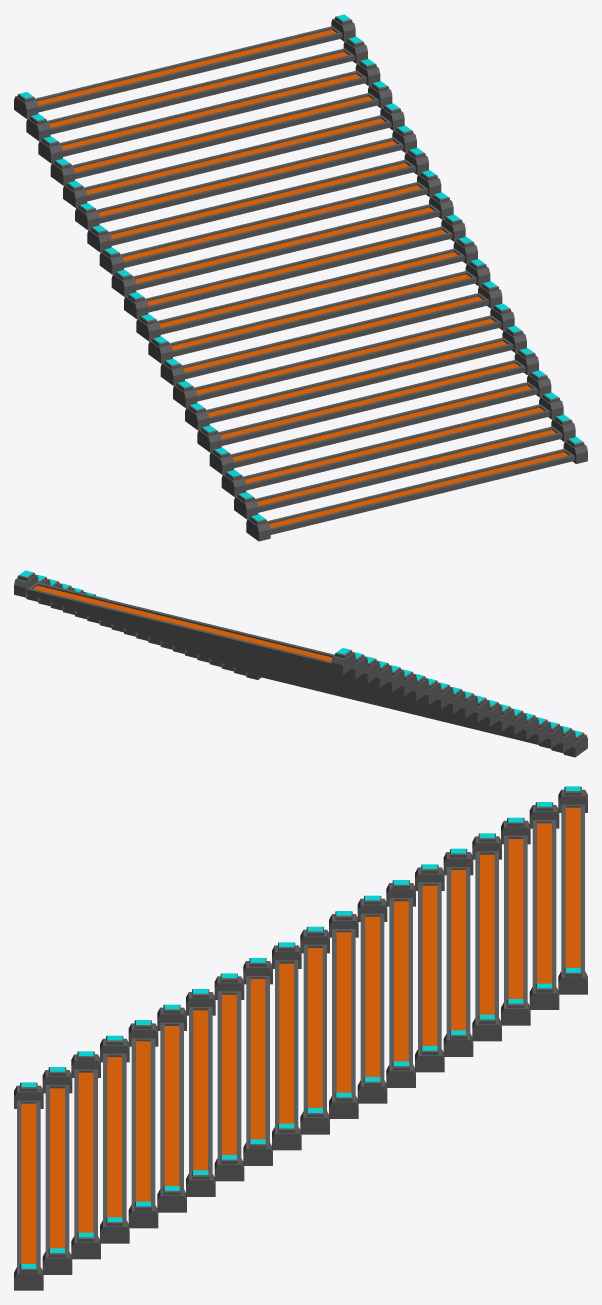
The model's file is Steps.fbx.
3 views of the same model, one above another, from view 1: azimuth 30°, elevation 25°; view 2: azimuth 150°, elevation 25°; view 3: azimuth 270°, elevation 25° (orthographic). The views are drawn at different scales.
Visible parts, largest first — view 1: Steps_Combined1; view 2: Steps_Combined1; view 3: Steps_Combined1.
Boxes of the visible parts, x1,y1,x2,y2 form: Steps_Combined1: [14, 14, 587, 541]; Steps_Combined1: [14, 570, 587, 757]; Steps_Combined1: [14, 786, 587, 1290].
Size of the model in its own units: 7 by 9.02 by 5.49.
